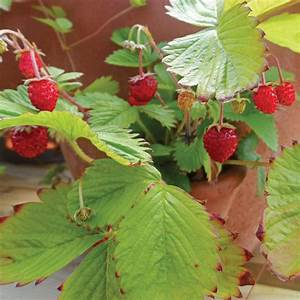Fresa: (202, 119, 242, 165), (23, 73, 65, 115), (248, 80, 282, 115), (273, 74, 300, 108)
